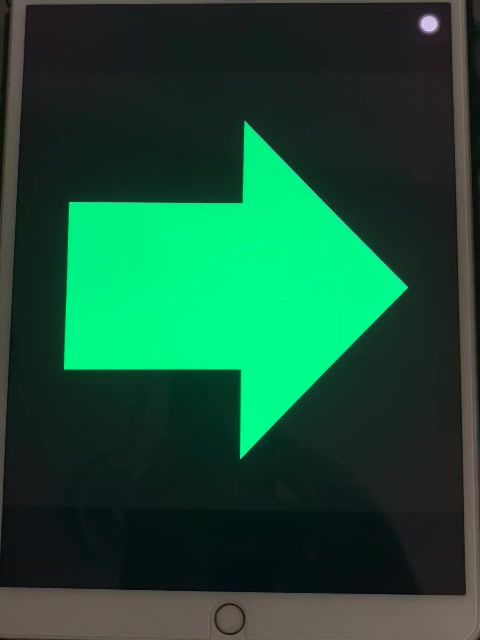right: (48, 118, 412, 465)
